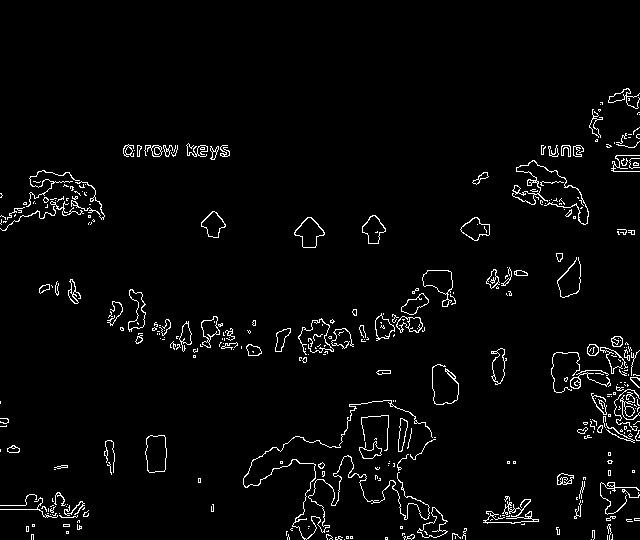left: (453, 211, 493, 250)
up: (289, 212, 332, 257), (193, 205, 233, 245), (353, 211, 392, 251)
